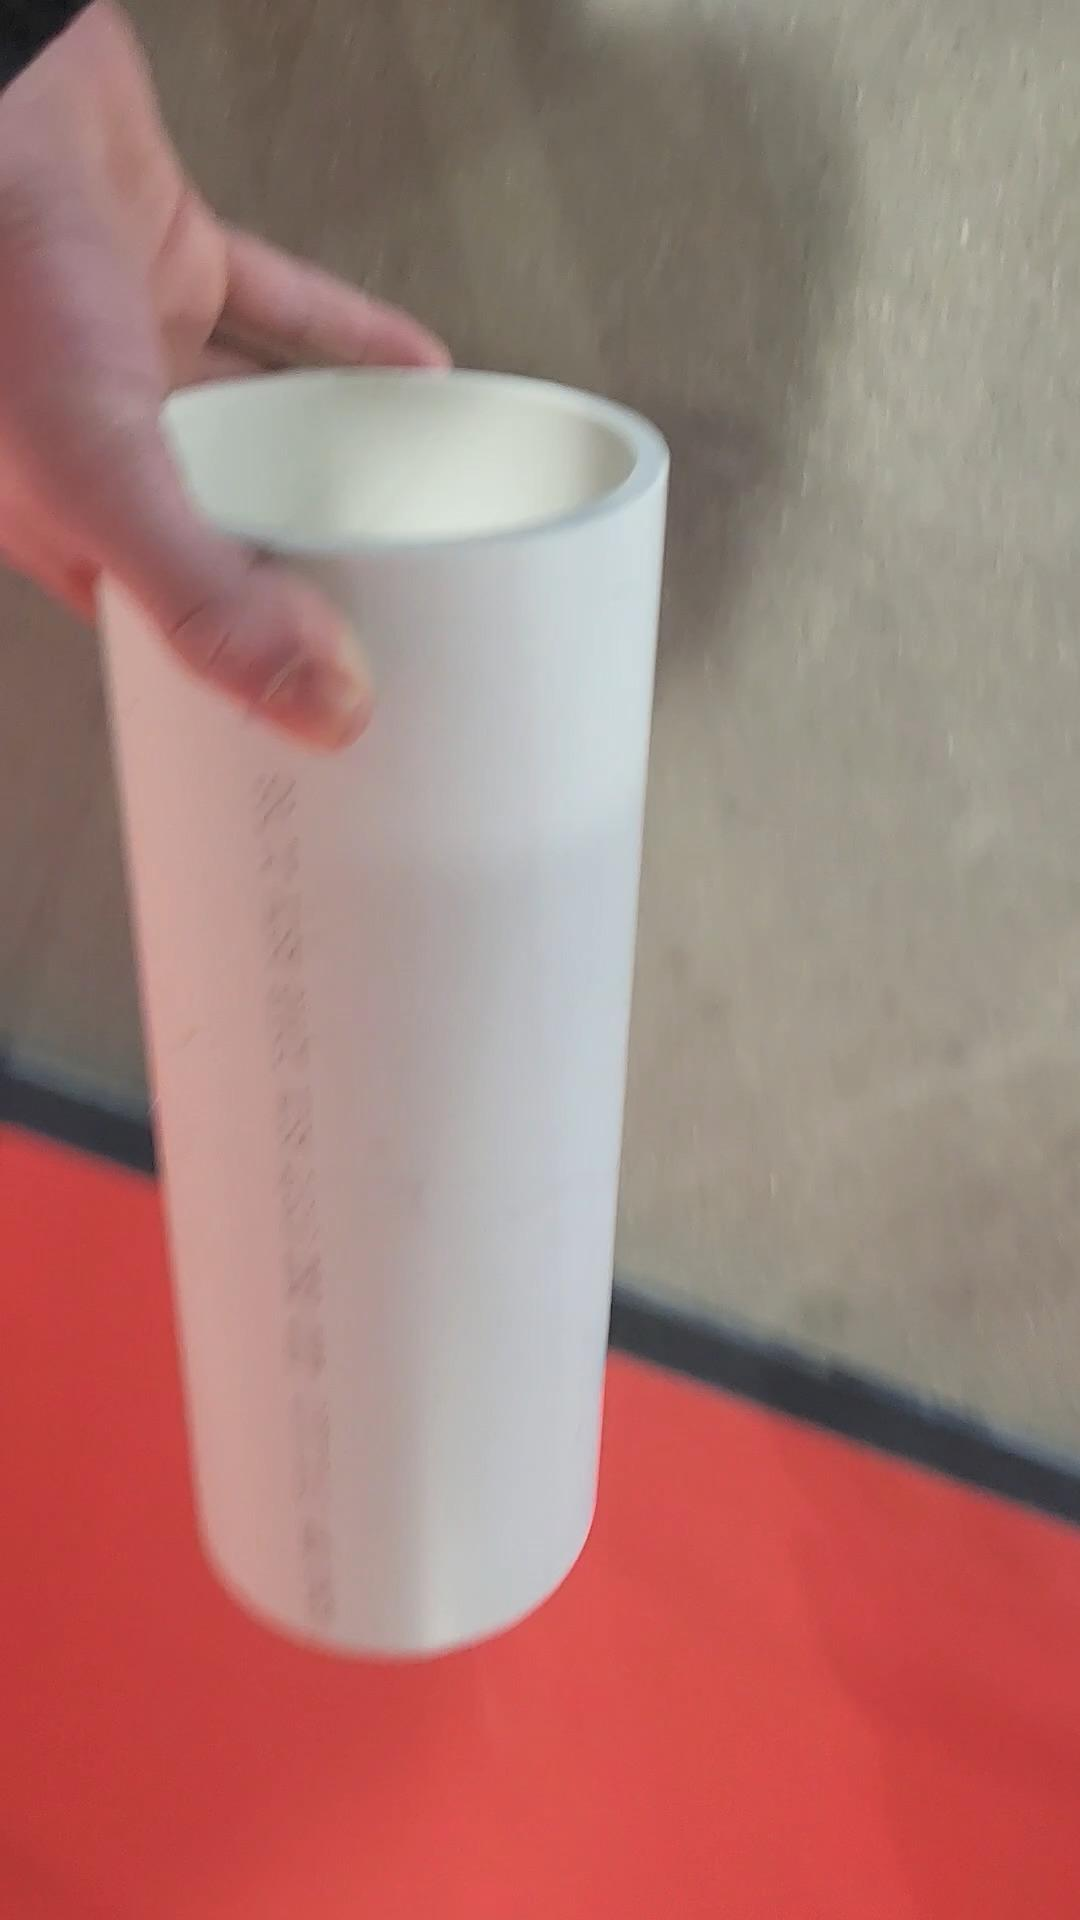coral: (77, 360, 687, 1670)
